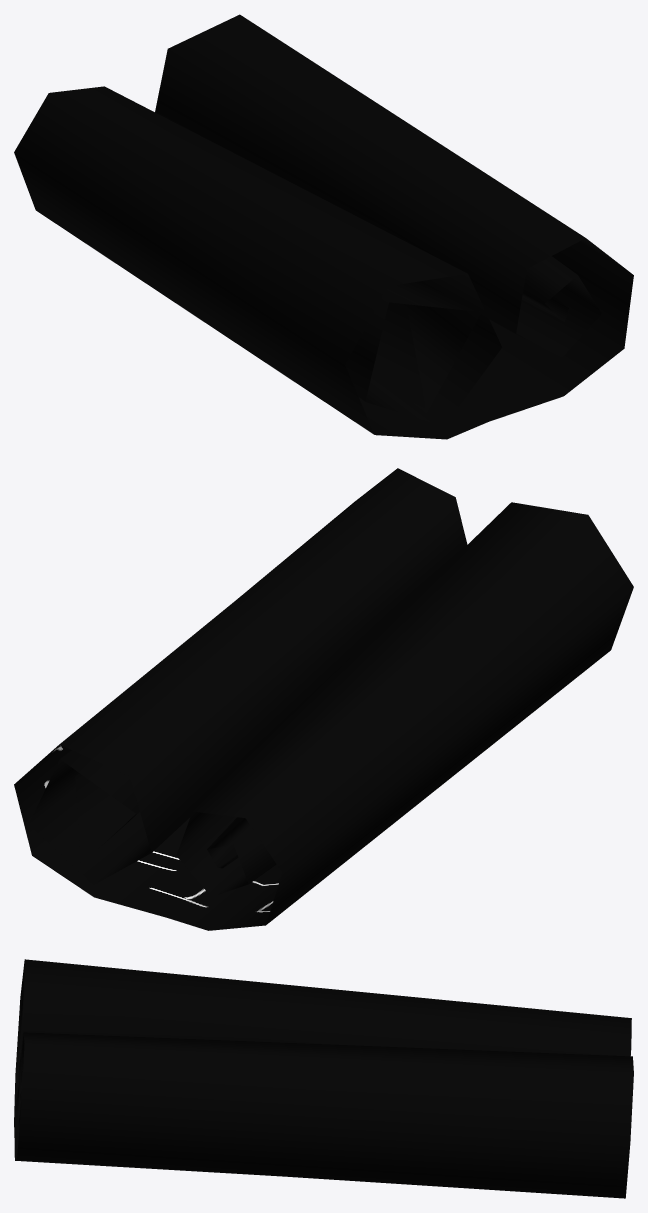
The model's file is Heist Plan Scroll with Animation.FBX.
3 renders of one model, top to bottom at view 1: azimuth 30°, elevation 25°; view 2: azimuth 150°, elevation 25°; view 3: azimuth 270°, elevation 25°, orthographic. The views are drawn at different scales.
Parts seen in each view (by area): view 1: Rolled Up Scroll 003; view 2: Rolled Up Scroll 003; view 3: Rolled Up Scroll 003.
Boxes of the visible parts, x1,y1,x2,y2 form: Rolled Up Scroll 003: (14,14,633,439); Rolled Up Scroll 003: (14,468,633,930); Rolled Up Scroll 003: (14,959,633,1198).
Size of the model in its own units: 0.1463 by 0.0921 by 0.3048.
2 materials, 1 textured.
